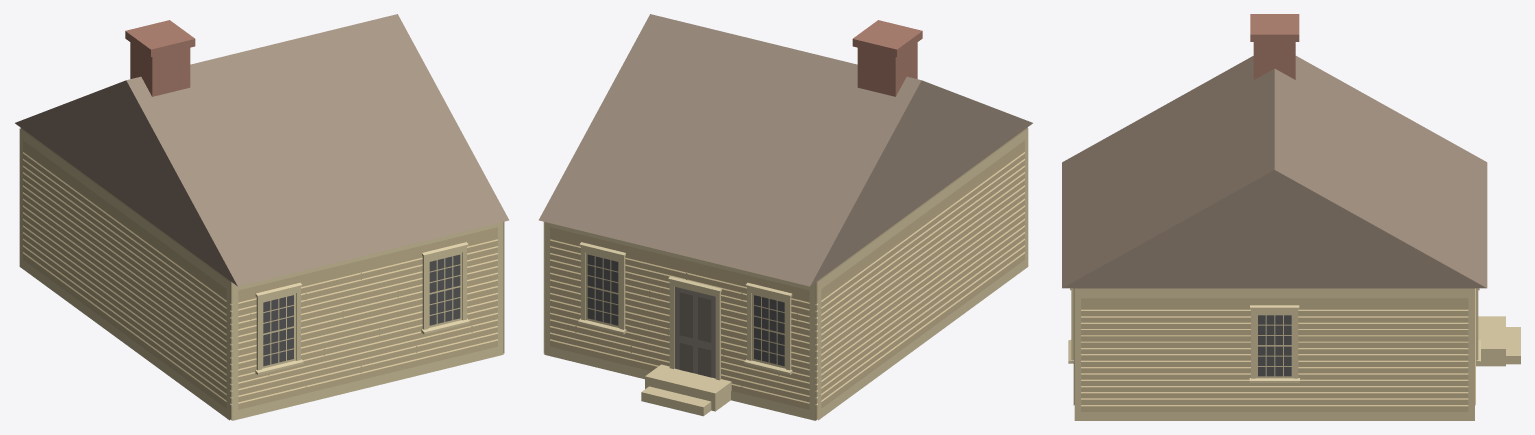
File: recon_1835_blk_school_section_tier_82_d4_04__inferred_1835.glb
3 renders of one model, left to right at view 1: azimuth 30°, elevation 25°; view 2: azimuth 150°, elevation 25°; view 3: azimuth 270°, elevation 25°, orthographic. The views are drawn at different scales.
Visible parts, largest first — view 1: recon_1835_blk_school_section_tier_82_d4_04__inferred_1835; view 2: recon_1835_blk_school_section_tier_82_d4_04__inferred_1835; view 3: recon_1835_blk_school_section_tier_82_d4_04__inferred_1835.
Boxes of the visible parts, left/top/right/bottom form: recon_1835_blk_school_section_tier_82_d4_04__inferred_1835: left=15, top=14, right=508, bottom=420; recon_1835_blk_school_section_tier_82_d4_04__inferred_1835: left=539, top=14, right=1032, bottom=420; recon_1835_blk_school_section_tier_82_d4_04__inferred_1835: left=1062, top=14, right=1520, bottom=420.
Size of the model in its own units: 6.13 by 6.31 by 9.19.
